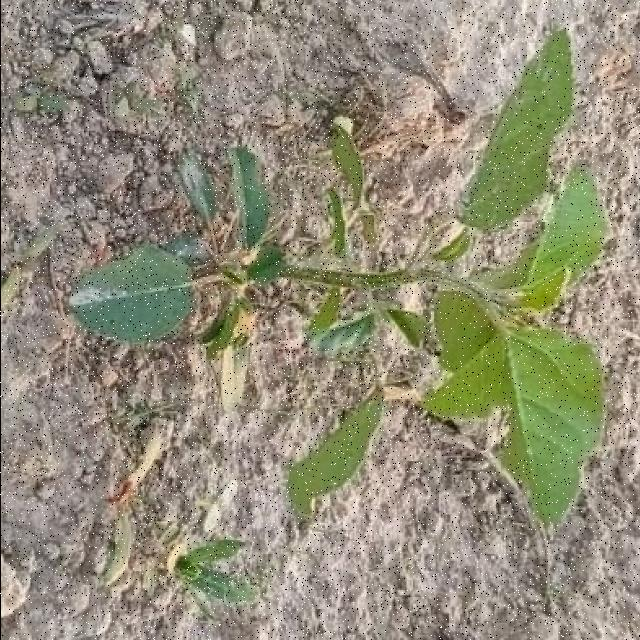weed: (66, 31, 607, 525), (287, 392, 384, 518), (175, 544, 254, 606), (199, 299, 252, 358), (330, 119, 362, 212), (177, 155, 217, 227)
